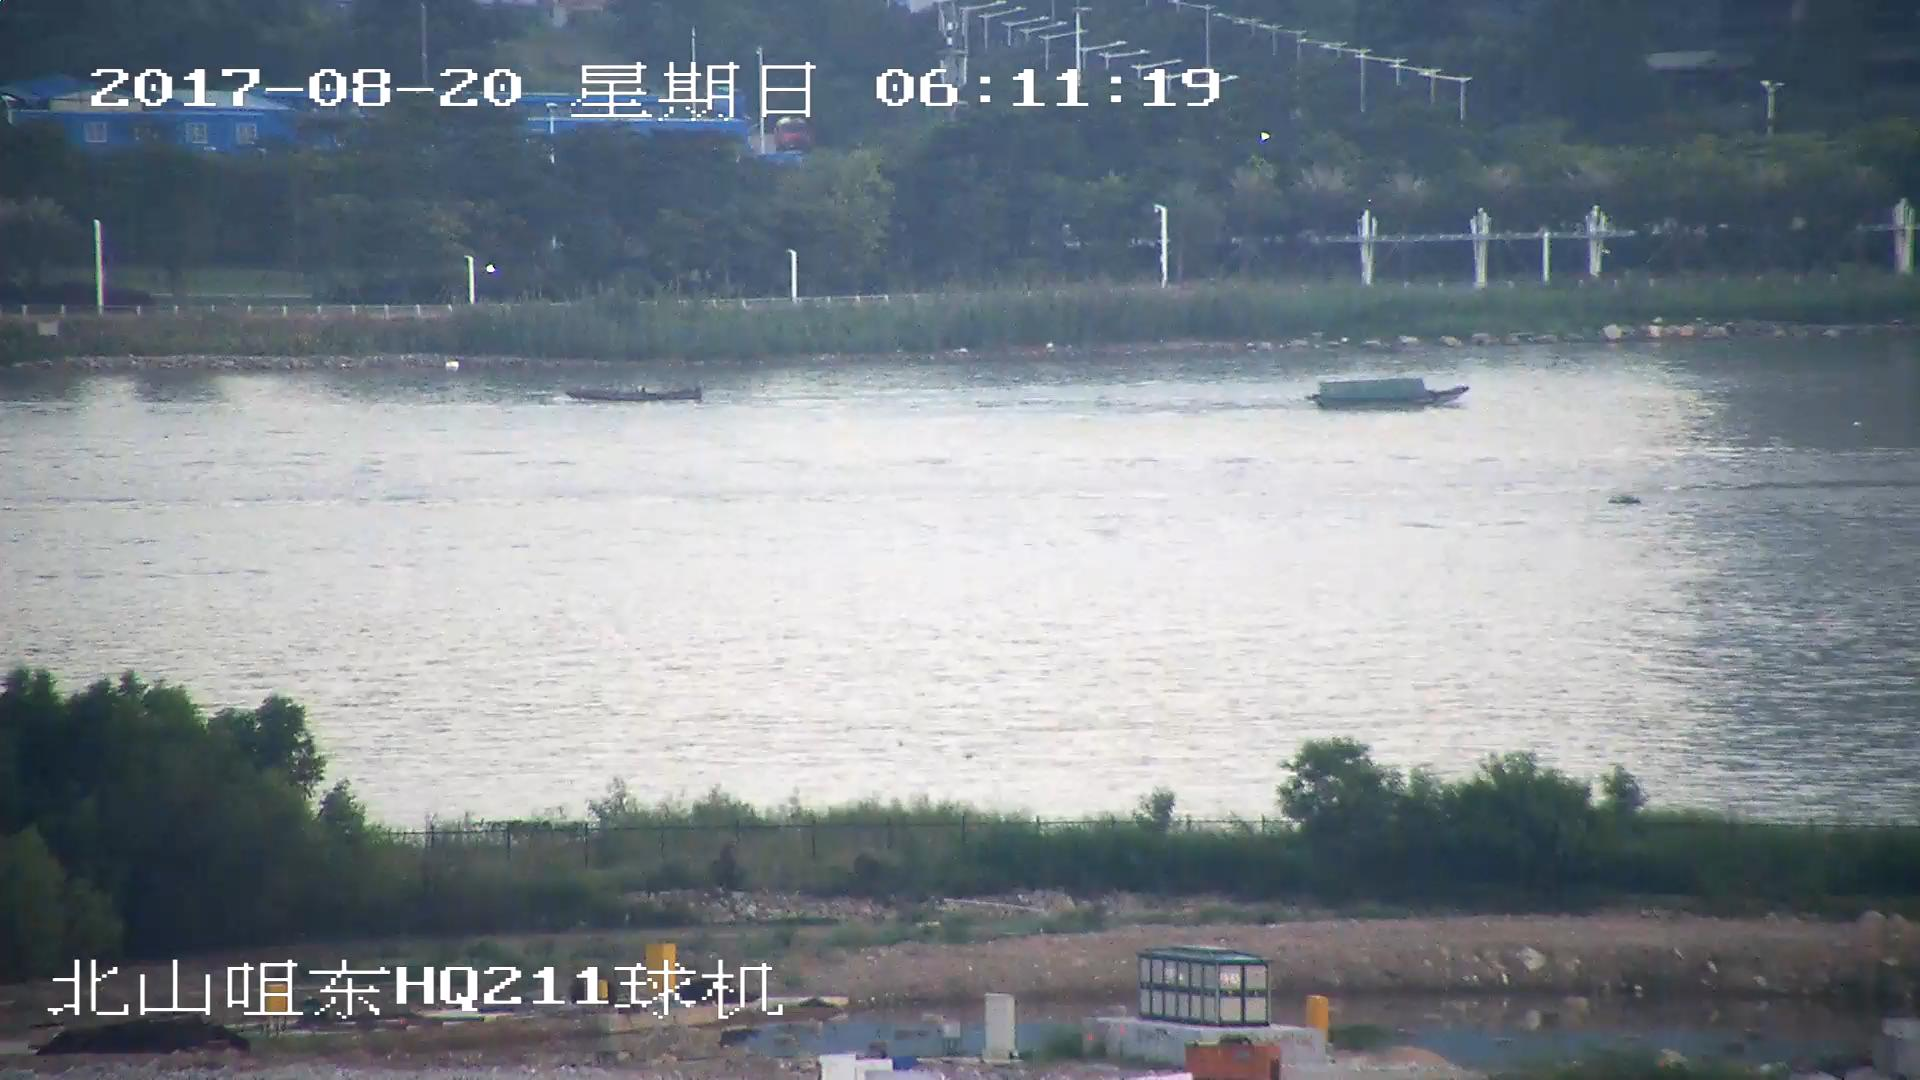fishing boat: (1313, 376, 1472, 409), (569, 382, 702, 401)
